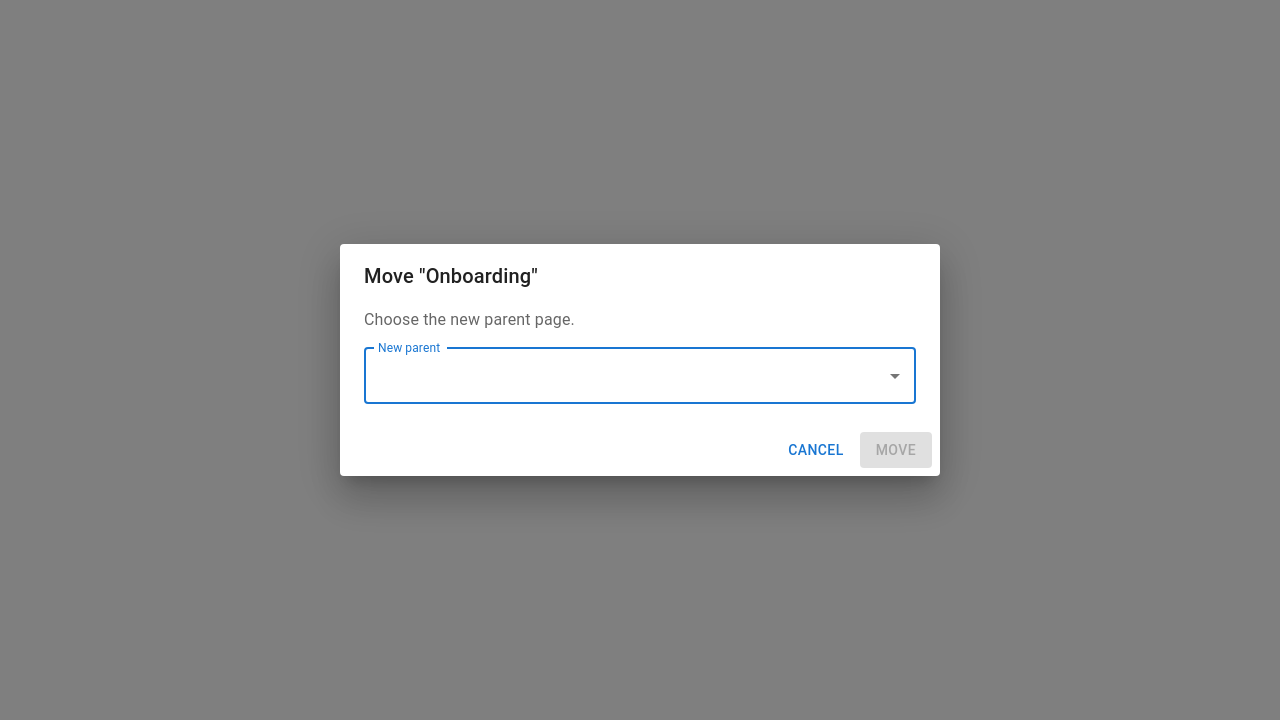
Test: MovePageDialog › shows no warning when moving between equally unrestricted positions
Press the mouse on the dropdown labelled "New parent" at (625, 376), box [373,357,877,395]
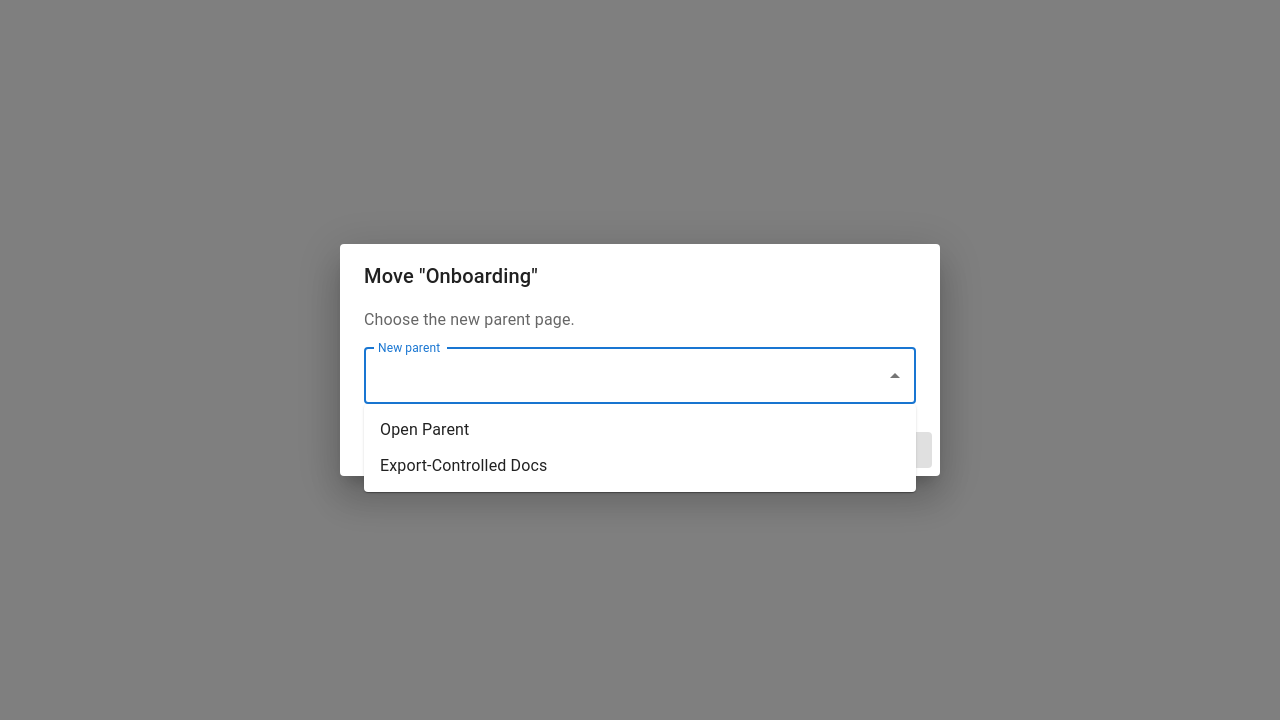
Type "Open Parent" into the dropdown labelled "New parent" at (625, 376), box [373,357,877,395]
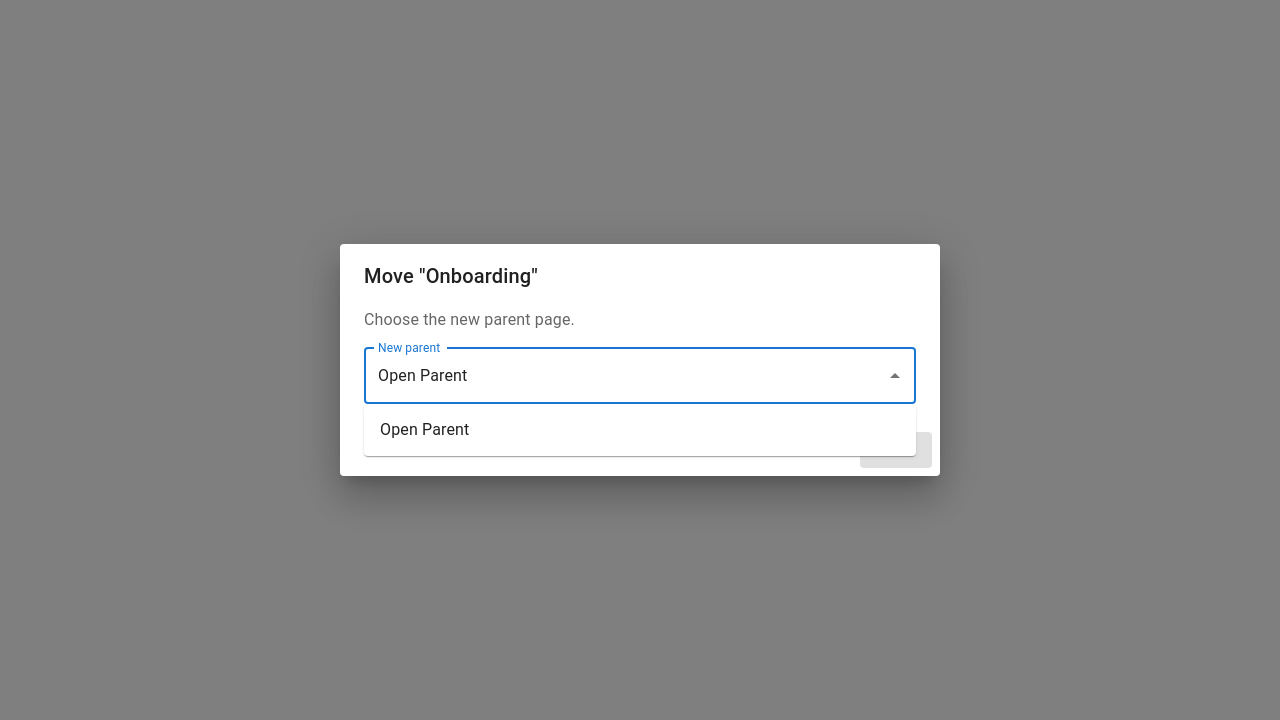
Click the option "Open Parent" at (425, 430), box [380,420,470,439]
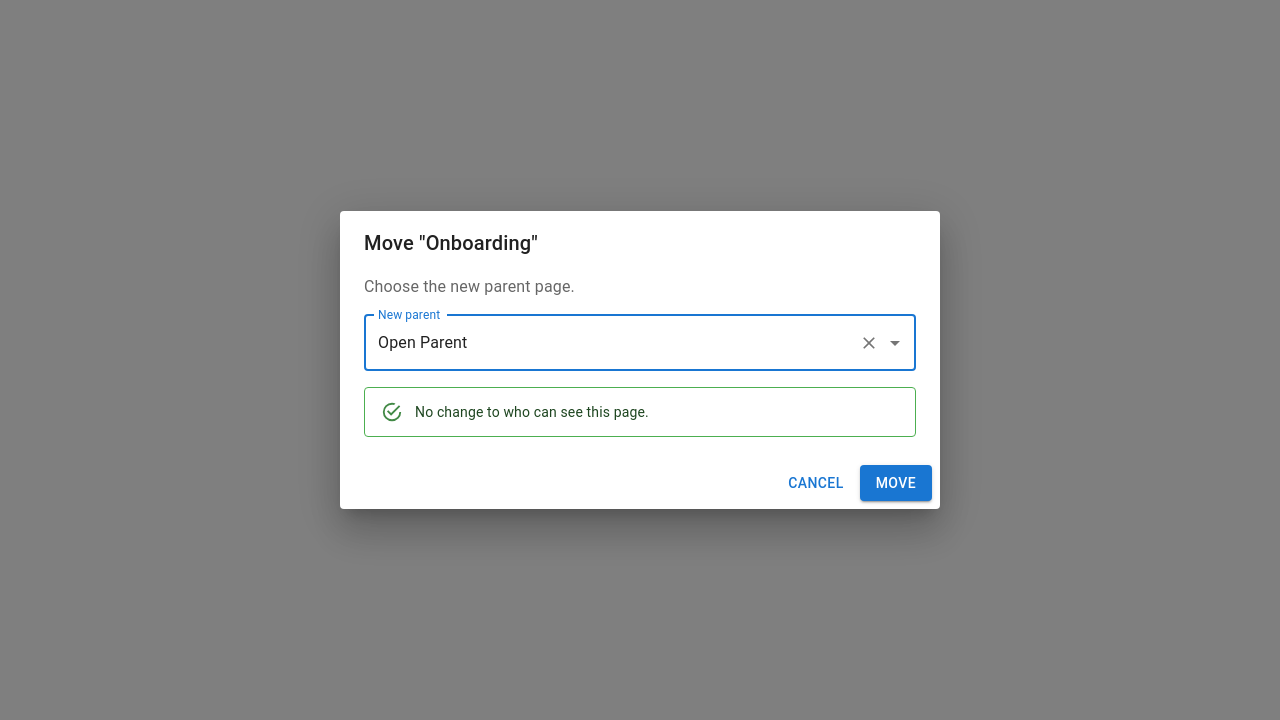
expect the text "No change to who can see this page." is shown: met, box [415,404,649,420]
expect the button "Move" is enabled: met, box [860,465,932,501]
